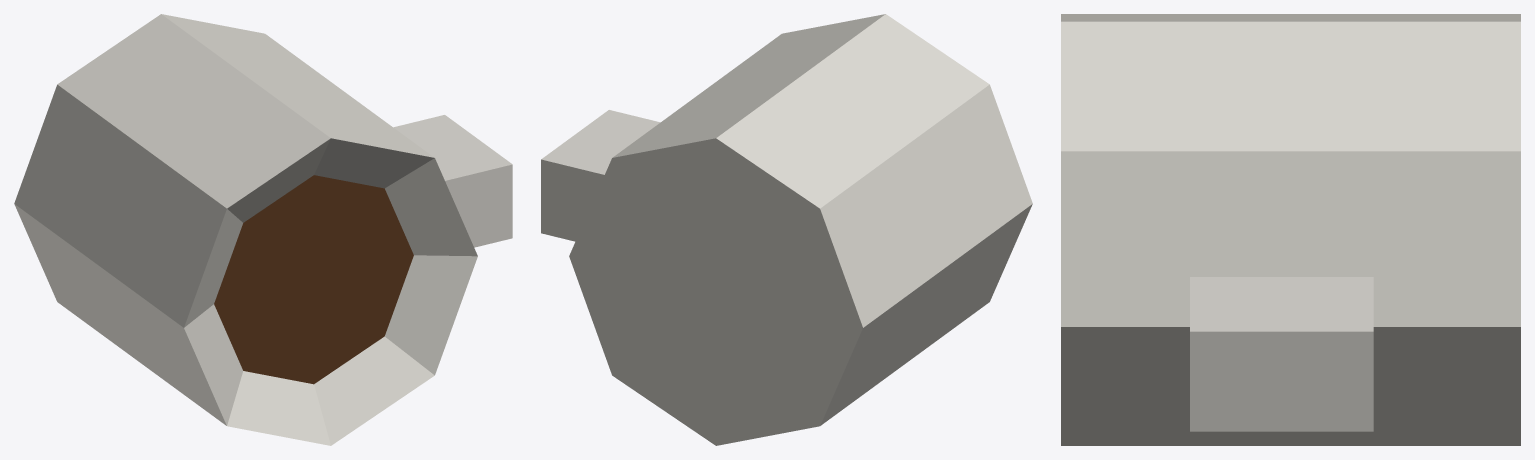
File: coffee_cup_lowpoly.obj
The picture shows the model from 3 angles, left to right: view 1: azimuth 30°, elevation 25°; view 2: azimuth 150°, elevation 25°; view 3: azimuth 270°, elevation 25°; orthographic projection. The views are drawn at different scales.
Parts seen in each view (by area): view 1: coffee_cup_lowpoly; view 2: coffee_cup_lowpoly; view 3: coffee_cup_lowpoly.
Part boxes in pixels (left/top/right/bottom): coffee_cup_lowpoly: left=14, top=14, right=512, bottom=445; coffee_cup_lowpoly: left=541, top=14, right=1032, bottom=445; coffee_cup_lowpoly: left=1061, top=14, right=1520, bottom=445.
Bounding box in the file's own units: 1.28 × 1 × 1.
